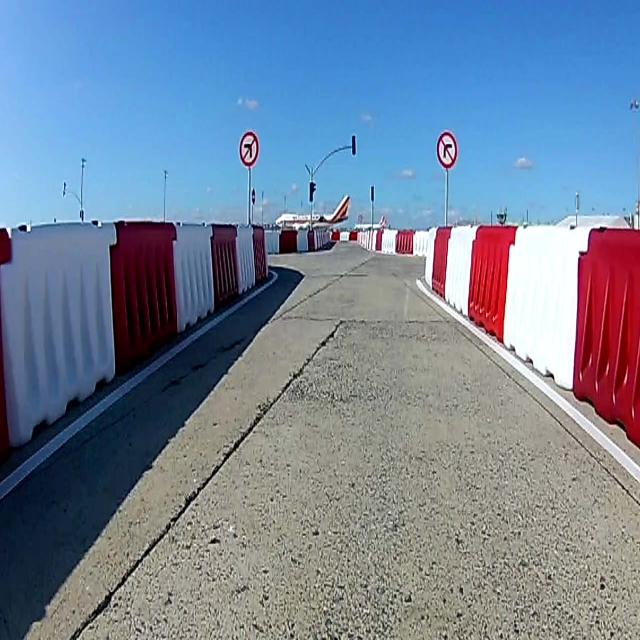sagadonulmez: (436, 132, 456, 167)
soladonulmez: (238, 132, 258, 166)
